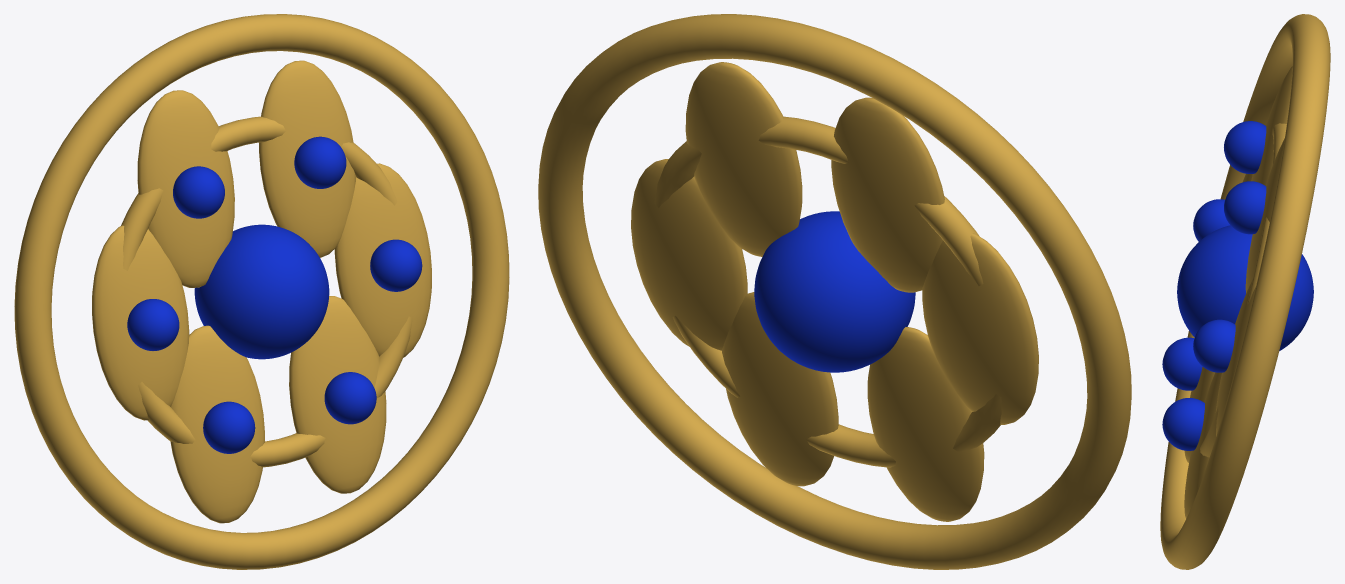
The model's file is brooch.glb.
3 views of the same model, side by side, from view 1: azimuth 30°, elevation 25°; view 2: azimuth 150°, elevation 25°; view 3: azimuth 270°, elevation 25° (orthographic). The views are drawn at different scales.
Parts seen in each view (by area): view 1: metal (×8), gem (×7); view 2: metal (×8), gem; view 3: metal (×7), gem (×7).
Part boxes in pixels (x1=…): metal (×8): x1=14, y1=14, x2=509, y2=569; gem (×7): x1=127, y1=136, x2=422, y2=453; metal (×8): x1=538, y1=14, x2=1131, y2=569; gem: x1=754, y1=211, x2=915, y2=372; metal (×7): x1=1160, y1=14, x2=1330, y2=569; gem (×7): x1=1162, y1=121, x2=1313, y2=450.
Size of the model in its own units: 3 by 2.91 by 0.8959.
